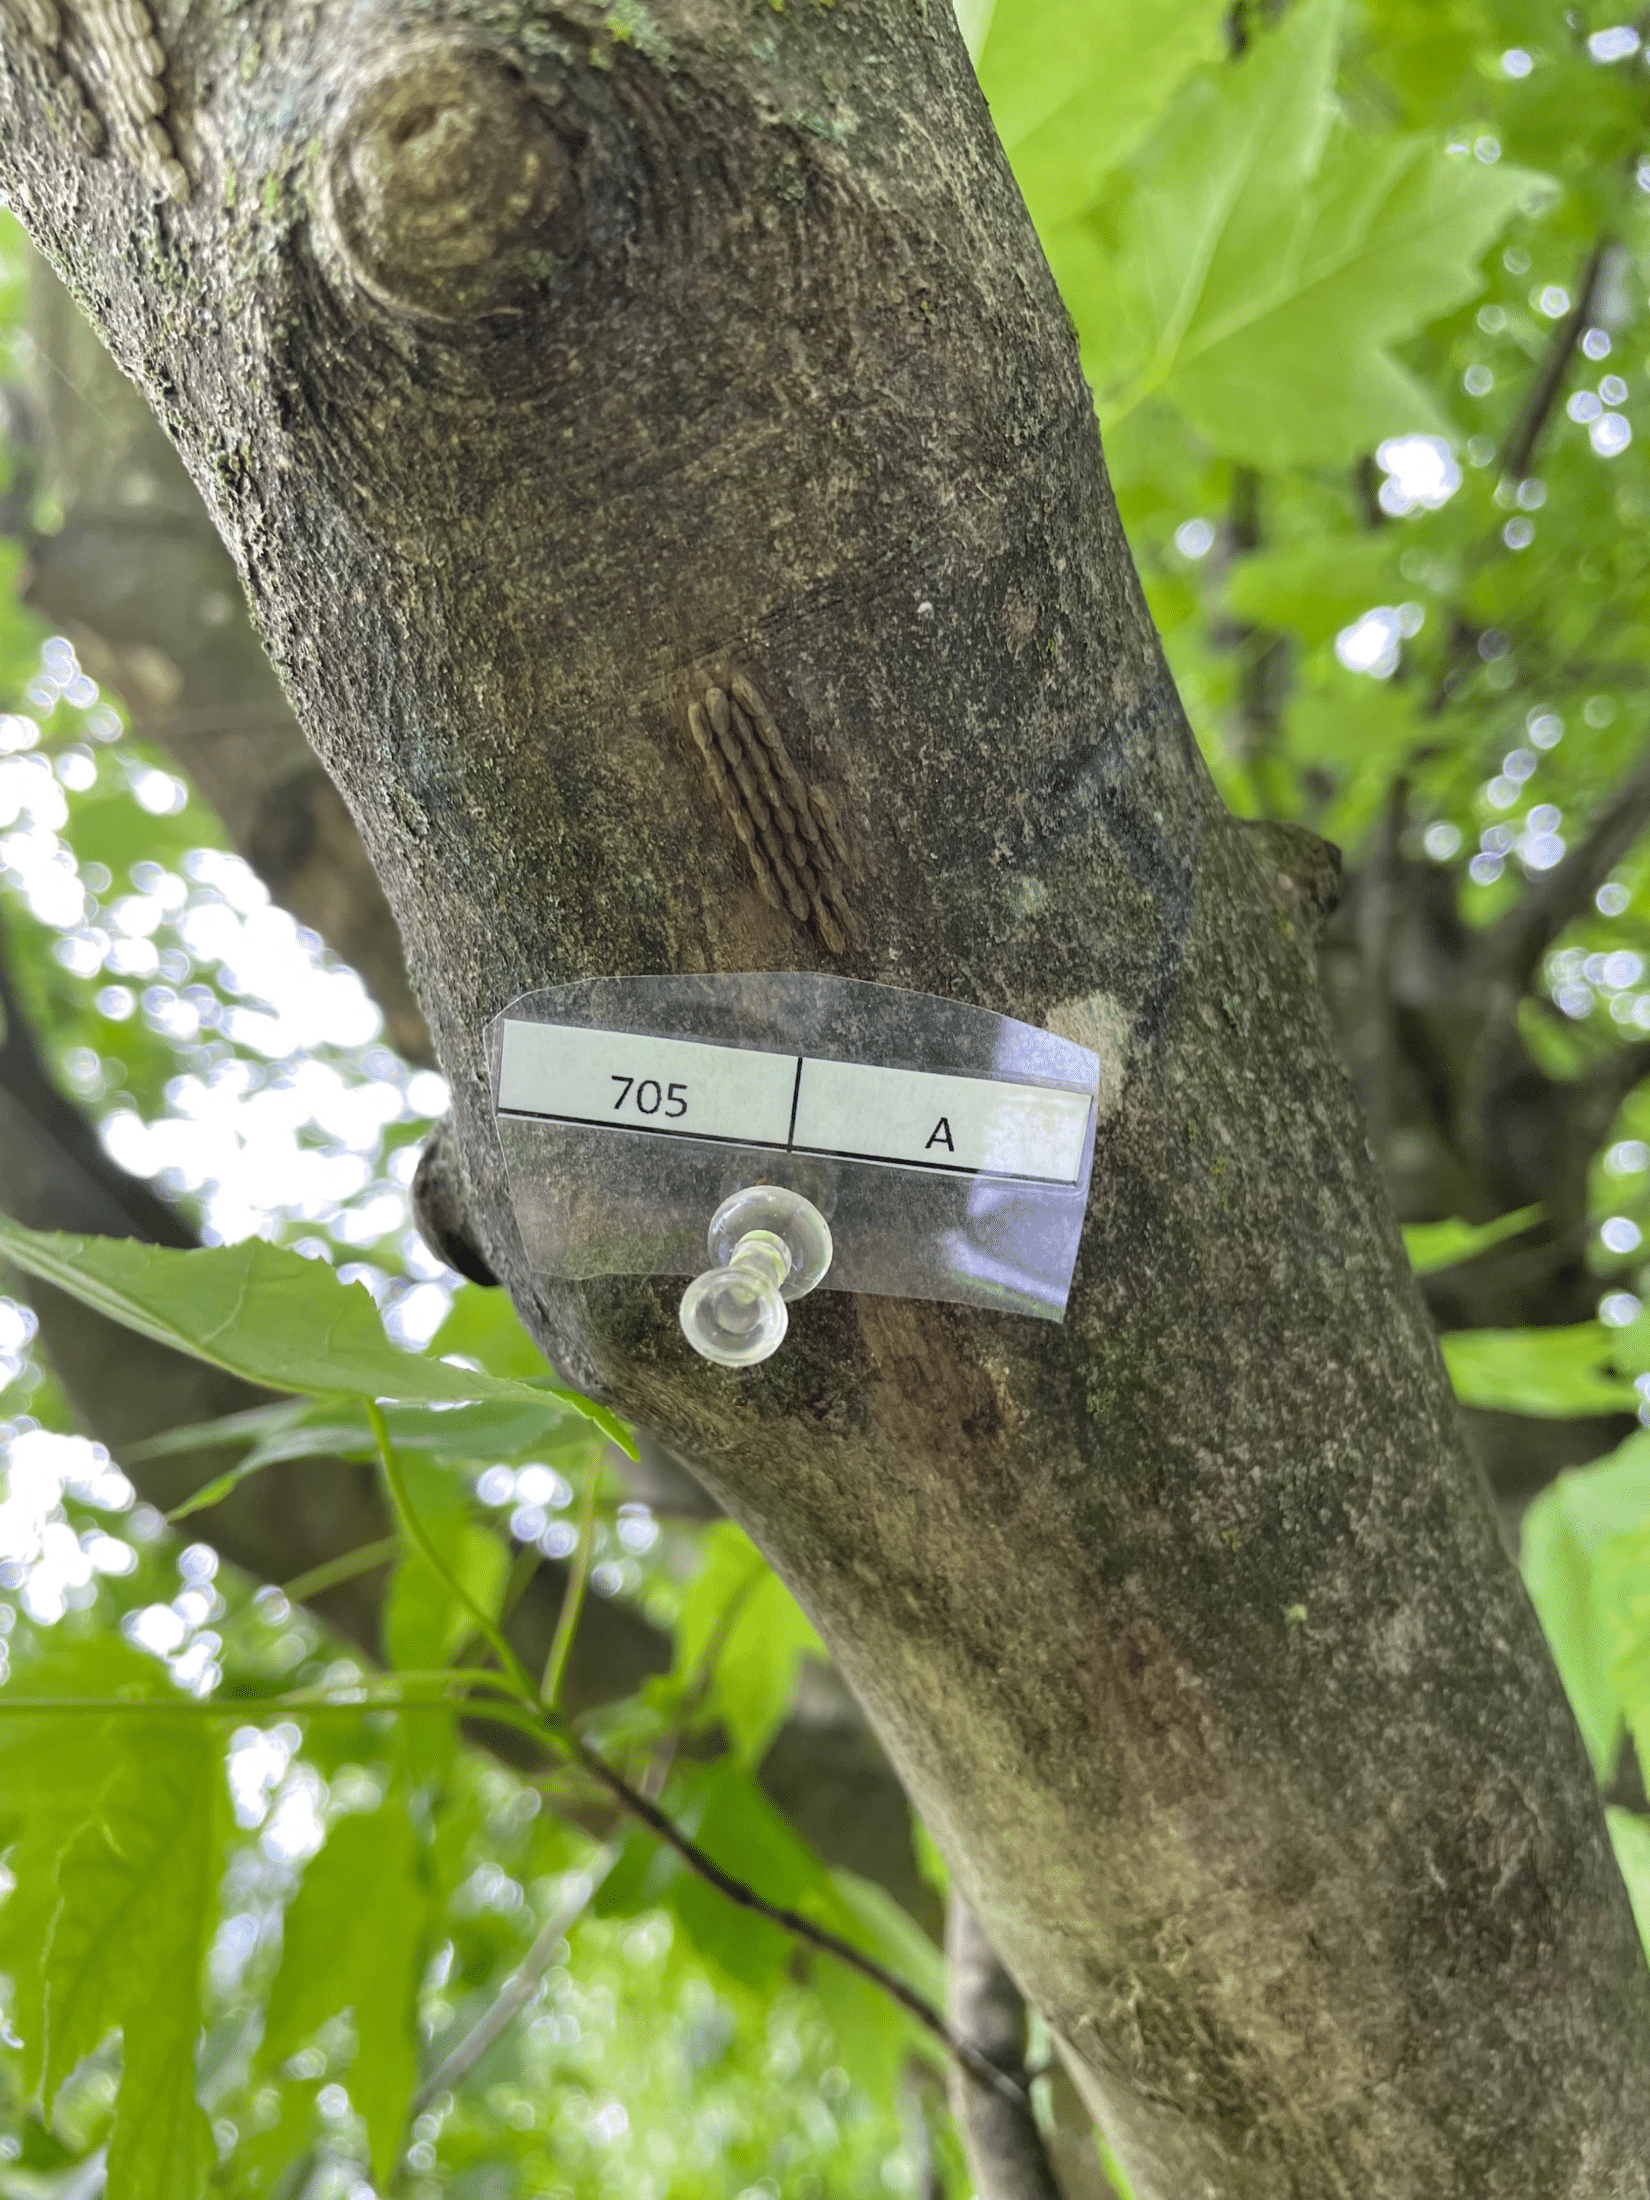egg masses: (655, 677, 874, 954)
